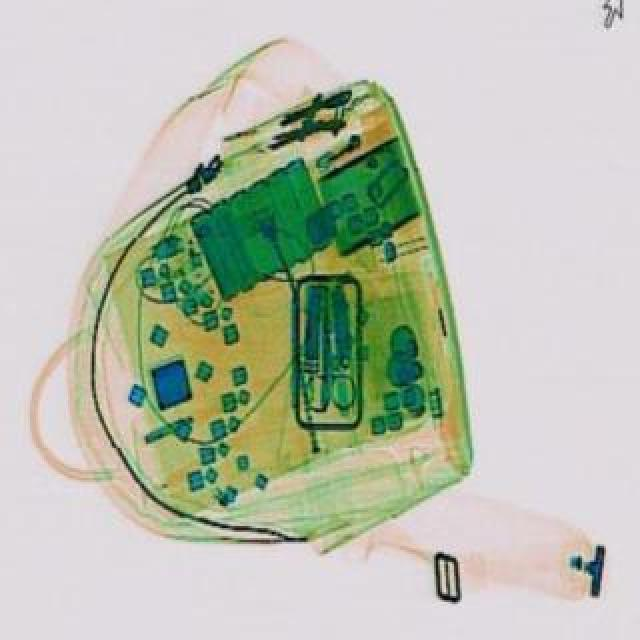pliers: (302, 306, 362, 408)
